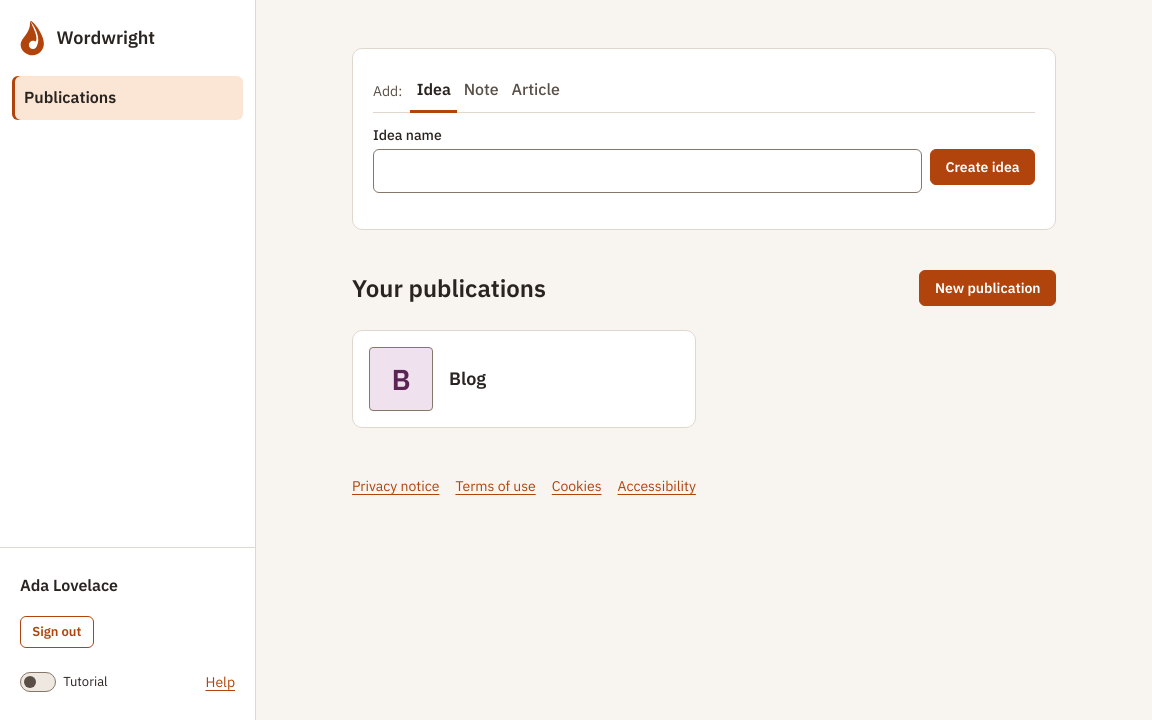
Test case: Home: Quick add (#192) › adds a note to the publication’s own notes, says so, and stays ready for another
Click the tab with aria-label "Add a note": (481, 91) x1=457 y1=69 x2=505 y2=113
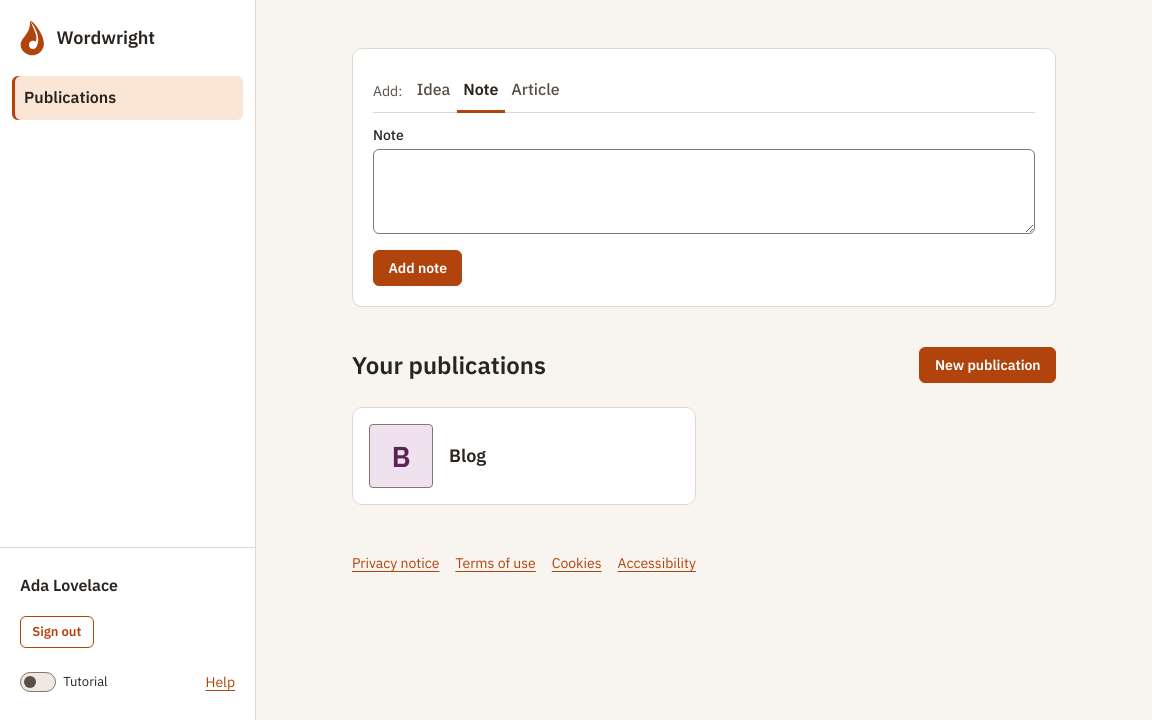
In the text box labelled "Note": (704, 192) x1=373 y1=149 x2=1035 y2=234, type "A thought"
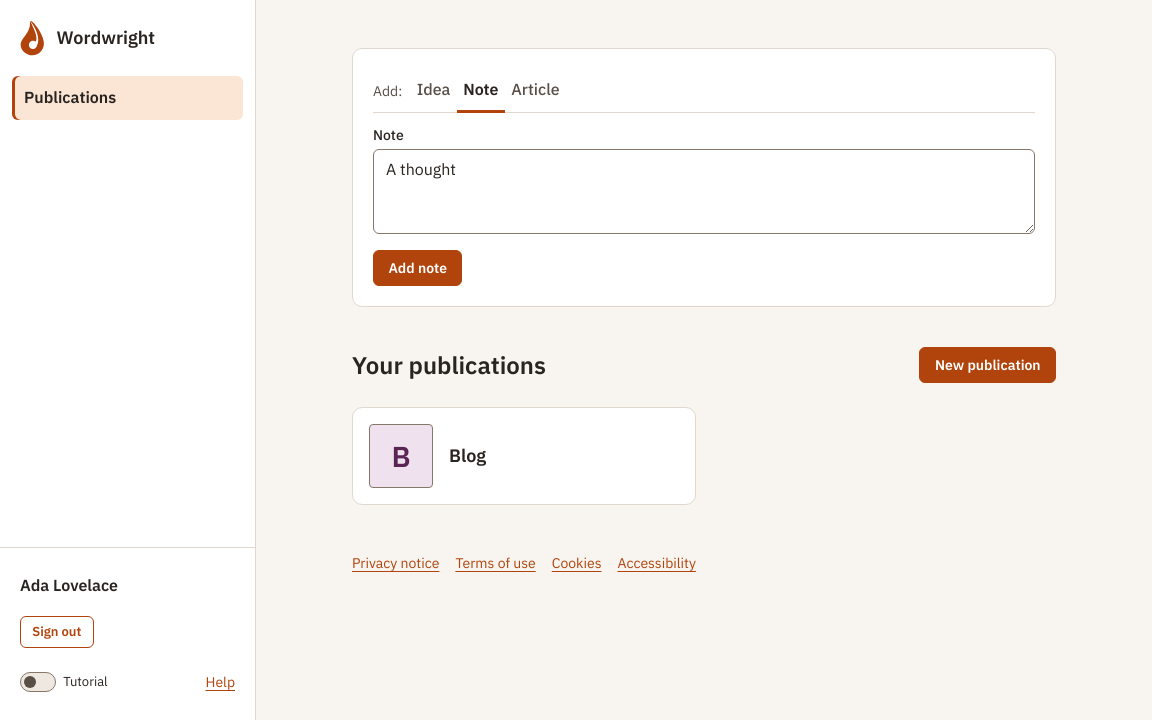
Click the button "Add note": (418, 268) x1=373 y1=250 x2=462 y2=286
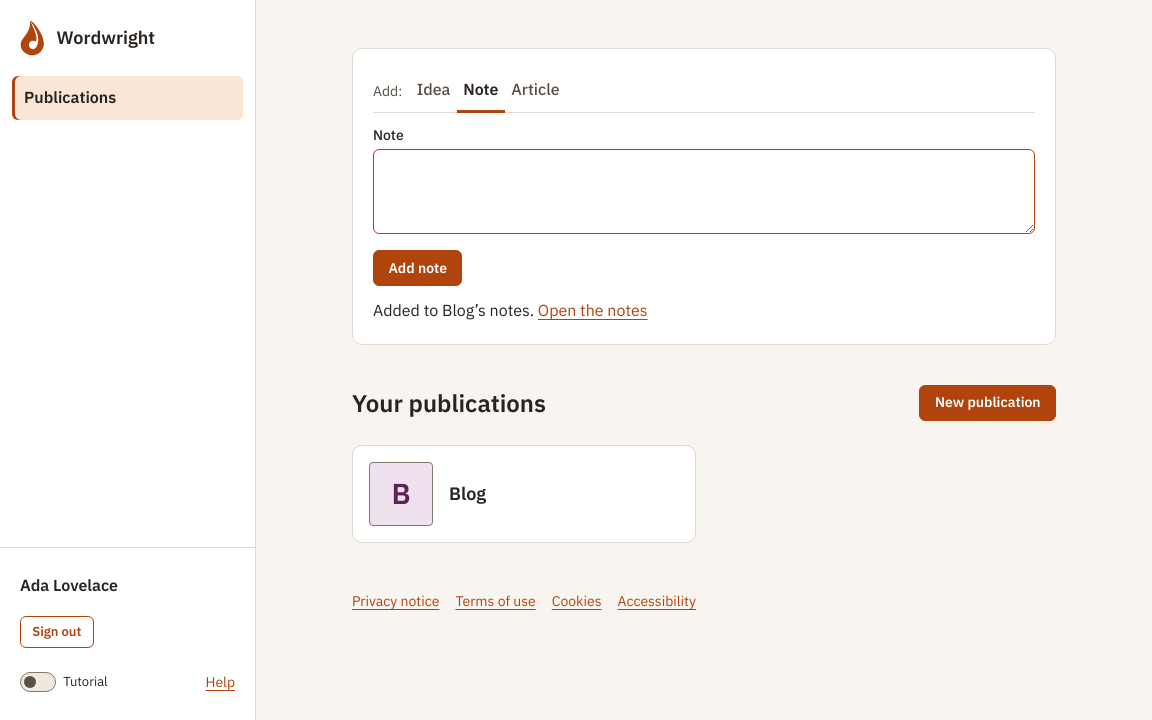
Now the text "Added to Blog’s notes. Open the notes" is shown, box x1=373 y1=300 x2=648 y2=320
Now the text box labelled "Note" is empty
// It points to notes that are not on this page, so it stays until the next note is started.
In the text box labelled "Note": (704, 192) x1=373 y1=149 x2=1035 y2=234, type "Another"
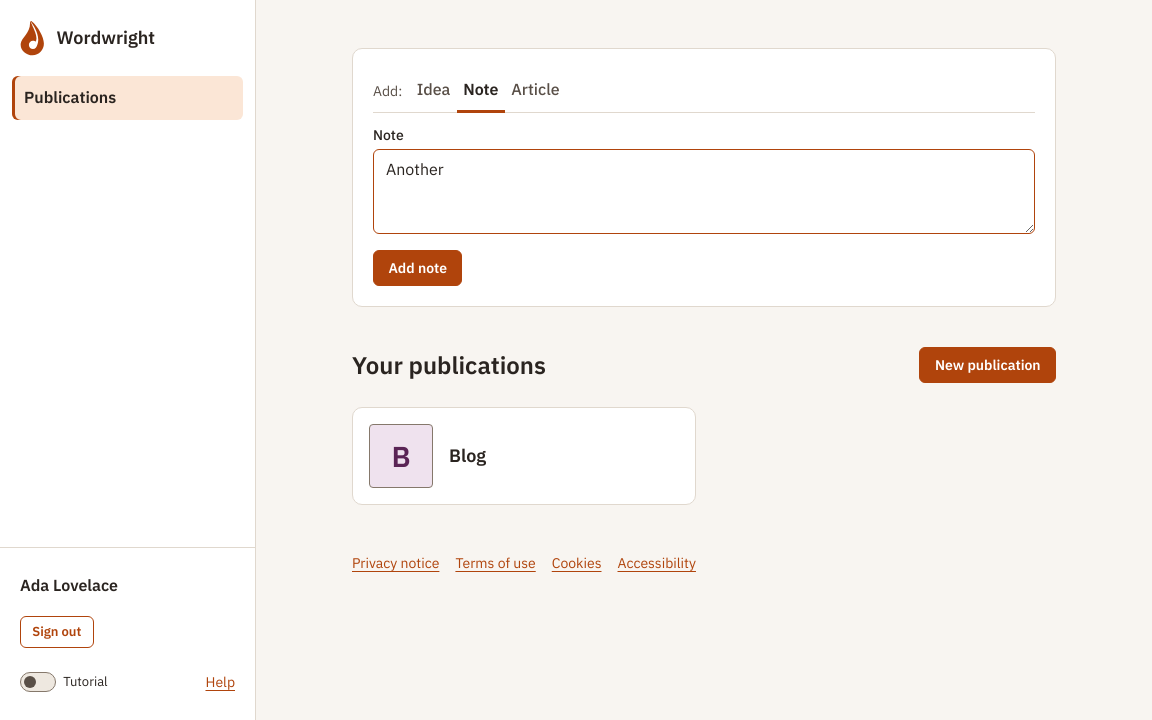
Now the text "Added to Blog’s notes." is gone
